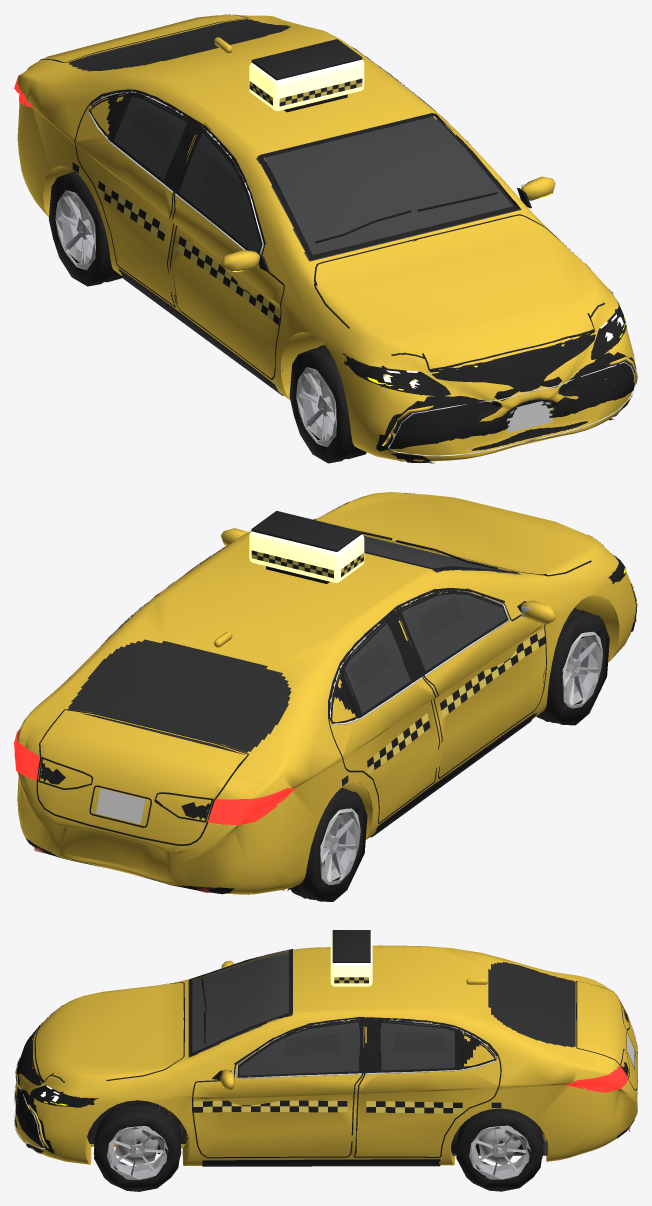
Rendered from taxiCheckered-lod1.glb.
3 renders of one model, top to bottom at view 1: azimuth 30°, elevation 25°; view 2: azimuth 150°, elevation 25°; view 3: azimuth 270°, elevation 25°, orthographic. The views are drawn at different scales.
Parts seen in each view (by area): view 1: Body, HoodSkin, Body_Lining, Body_Trim, Panel_FR, Panel_RR, Window_FR, Window_RR, Wheel_FR_Tyre, Wheel_RR_Tyre, TaxiSign, Panel_RR_Trim (+13 smaller); view 2: Body, TrunkSkin, HoodSkin, Body_Lining, Panel_FR, Panel_RR, Body_Trim, Window_FR, Window_RR, Wheel_FR_Tyre, Wheel_RR_Tyre, TaxiSign (+13 smaller); view 3: Body, Body_Lining, HoodSkin, Panel_FL, Panel_RL, Body_Trim, Window_FL, Wheel_FL_Tyre, TrunkSkin, Wheel_RL_Tyre, Window_RL, Panel_RL_Trim (+14 smaller).
Part boxes in pixels (x1,y1,x2,y2): Body: [17, 15, 635, 461]; HoodSkin: [315, 216, 611, 372]; Body_Lining: [73, 21, 521, 303]; Body_Trim: [14, 48, 636, 463]; Panel_FR: [172, 129, 283, 378]; Panel_RR: [76, 91, 194, 305]; Window_FR: [178, 132, 262, 252]; Window_RR: [113, 96, 187, 179]; Wheel_FR_Tyre: [289, 345, 366, 463]; Wheel_RR_Tyre: [48, 171, 122, 286]; TaxiSign: [249, 59, 364, 111]; Panel_RR_Trim: [74, 89, 201, 307]; Body: [14, 519, 635, 894]; TrunkSkin: [38, 711, 246, 844]; HoodSkin: [315, 492, 611, 574]; Body_Lining: [69, 537, 544, 754]; Panel_FR: [399, 590, 545, 777]; Panel_RR: [329, 621, 439, 822]; Body_Trim: [14, 534, 636, 894]; Window_FR: [399, 592, 506, 670]; Window_RR: [342, 622, 410, 713]; Wheel_FR_Tyre: [536, 608, 609, 725]; Wheel_RR_Tyre: [290, 787, 367, 901]; TaxiSign: [249, 531, 364, 582]; Body: [15, 945, 637, 1165]; Body_Lining: [190, 954, 574, 1075]; HoodSkin: [33, 983, 182, 1089]; Panel_FL: [195, 1019, 359, 1157]; Panel_RL: [356, 1020, 499, 1156]; Body_Trim: [15, 949, 634, 1166]; Window_FL: [239, 1020, 359, 1076]; Wheel_FL_Tyre: [93, 1103, 181, 1191]; TrunkSkin: [578, 981, 637, 1089]; Wheel_RL_Tyre: [456, 1108, 543, 1191]; Window_RL: [380, 1021, 456, 1072]; Panel_RL_Trim: [354, 1017, 501, 1157].
Bounding box in the file's own units: 2.29 × 1.74 × 4.93.
